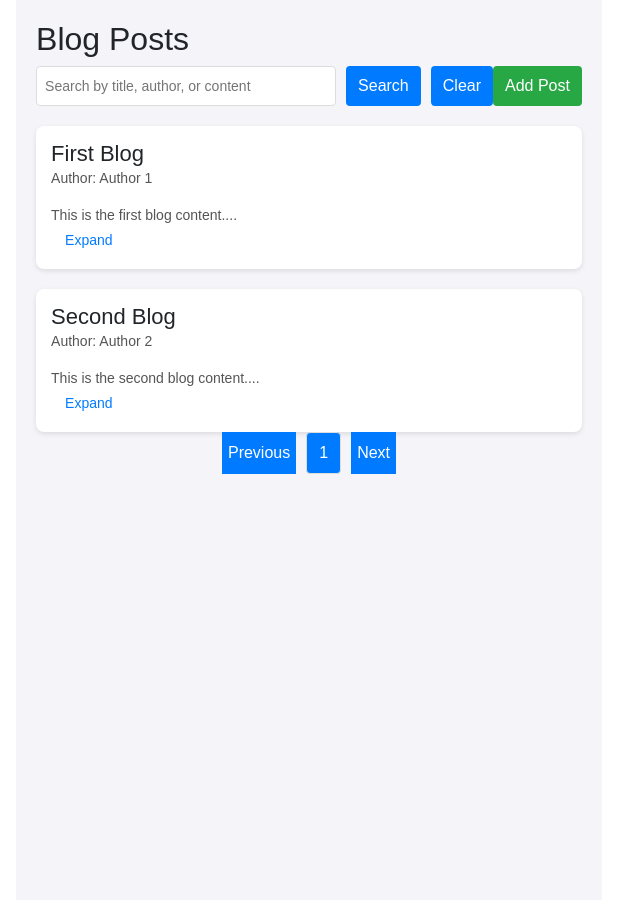
Scenario: Blogs Component › clears search and resets blog posts
Expected: the heading "First Blog" is shown, [51, 141, 144, 166]
Perform search
Type "First" into the field with placeholder "Search by title, author, or content" at (186, 86), box [36, 66, 336, 106]
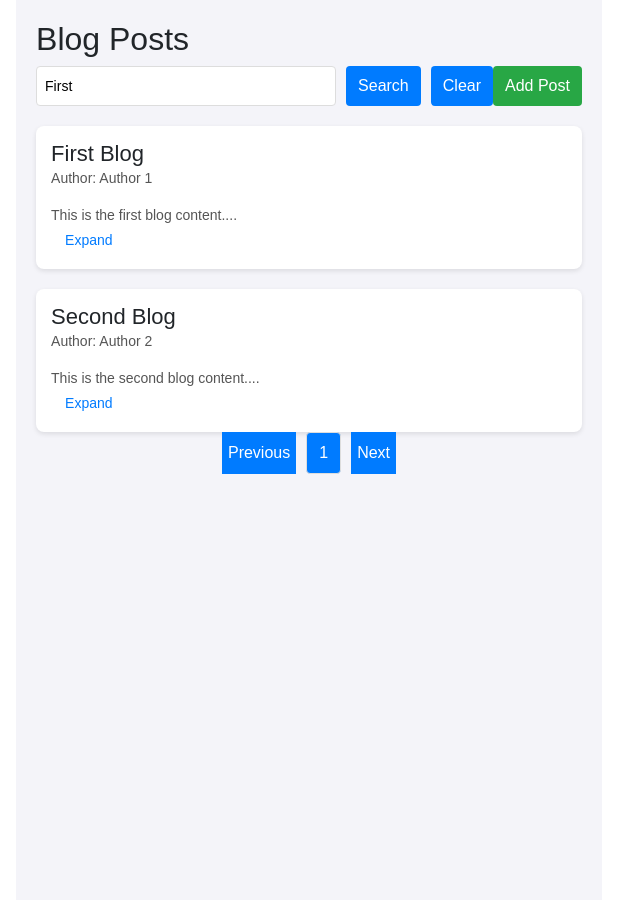
Click the button "Search" at (383, 86), box [346, 66, 421, 106]
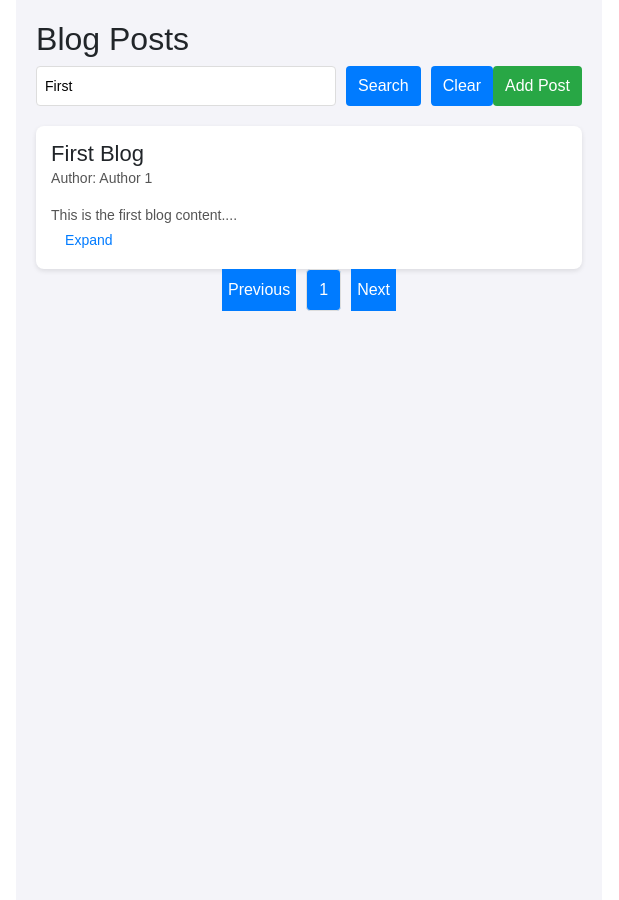
Expected: the heading "First Blog" is shown, [51, 141, 144, 166]
Expected: the heading "Second Blog" is gone
Clear search
Click the button "Clear" at (462, 86), box [431, 66, 493, 106]
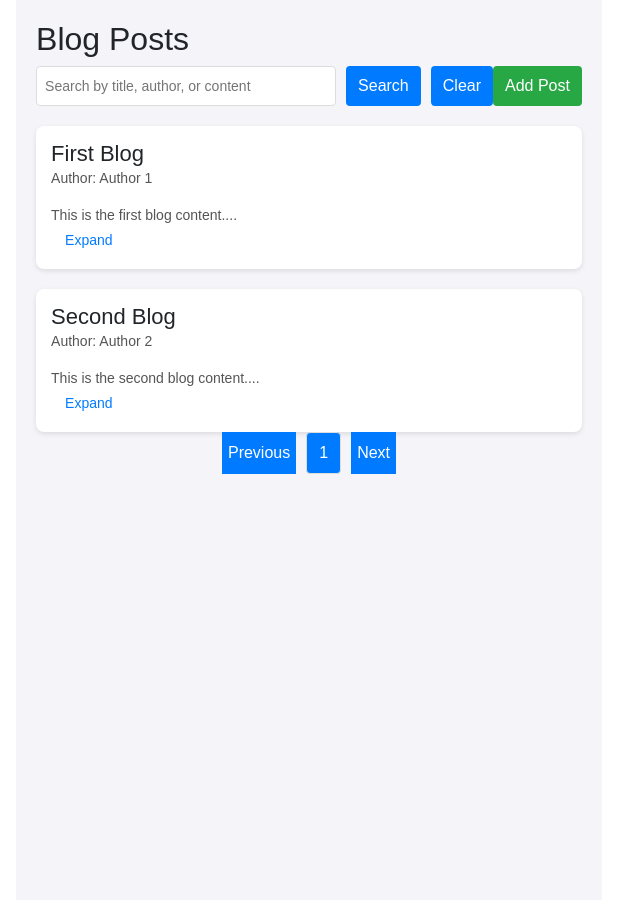
Expected: the heading "First Blog" is shown, [51, 141, 144, 166]
Expected: the heading "Second Blog" is shown, [51, 304, 176, 329]
